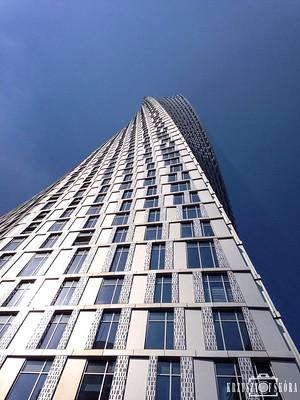building: (4, 74, 300, 400)
